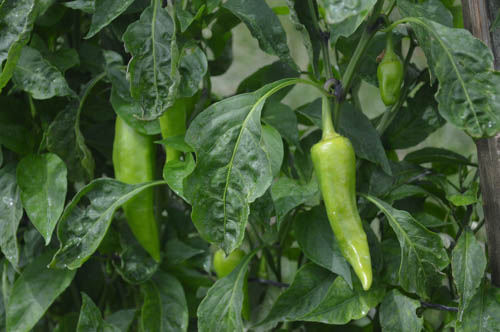ChiliPepper: (312, 140, 374, 291), (113, 115, 163, 261), (160, 105, 189, 168), (378, 58, 405, 110)
